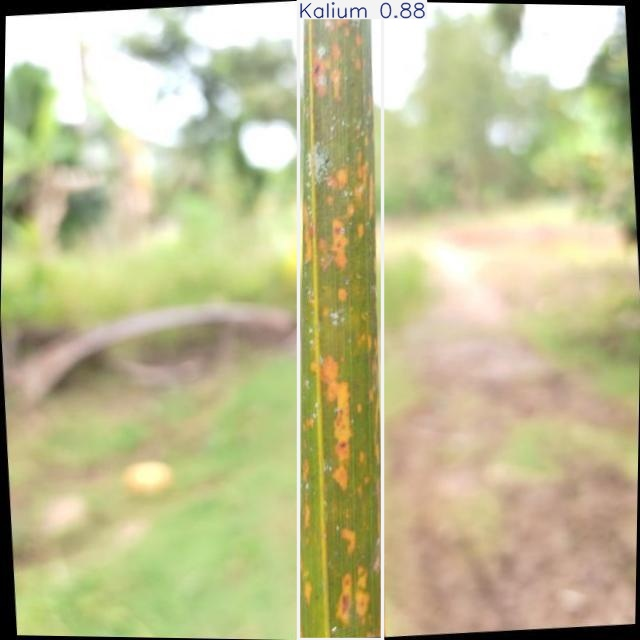Kalium: (298, 0, 383, 640)
